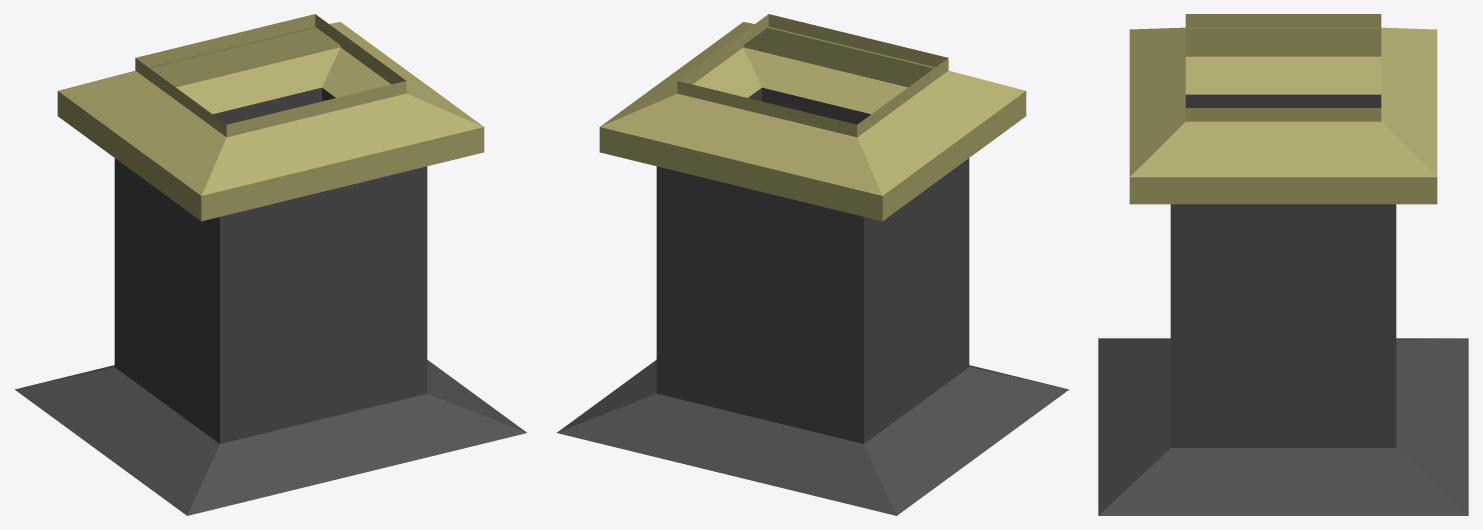
File: gwr-chimney.dae
3 views of the same model, side by side, from view 1: azimuth 30°, elevation 25°; view 2: azimuth 150°, elevation 25°; view 3: azimuth 270°, elevation 25° (orthographic). The views are drawn at different scales.
Parts seen in each view (by area): view 1: Cube_049; view 2: Cube_049; view 3: Cube_049.
Part boxes in pixels (x1,y1,x2,y2): Cube_049: (14, 14, 526, 515); Cube_049: (557, 14, 1069, 515); Cube_049: (1098, 14, 1468, 515).
Size of the model in its own units: 0.5595 by 0.4922 by 0.5371.
